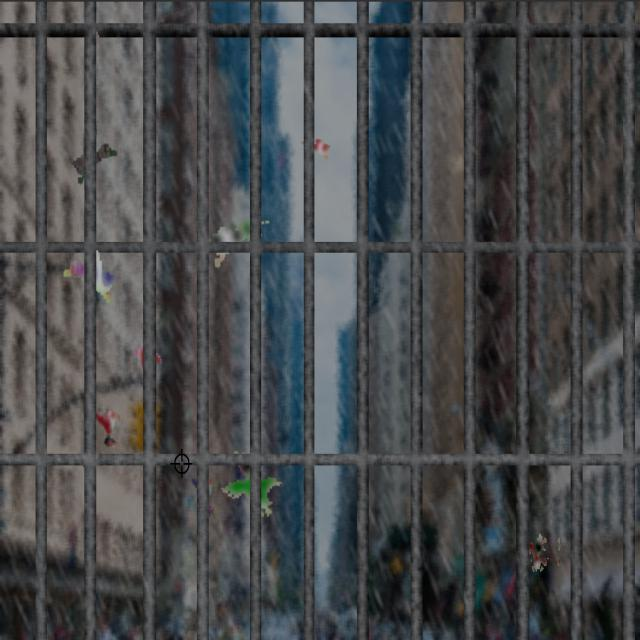duck: (63, 243, 120, 304), (225, 458, 283, 516), (208, 219, 271, 272), (68, 136, 118, 186)
falling_duck: (187, 472, 218, 524), (95, 400, 124, 454), (527, 530, 552, 578)
